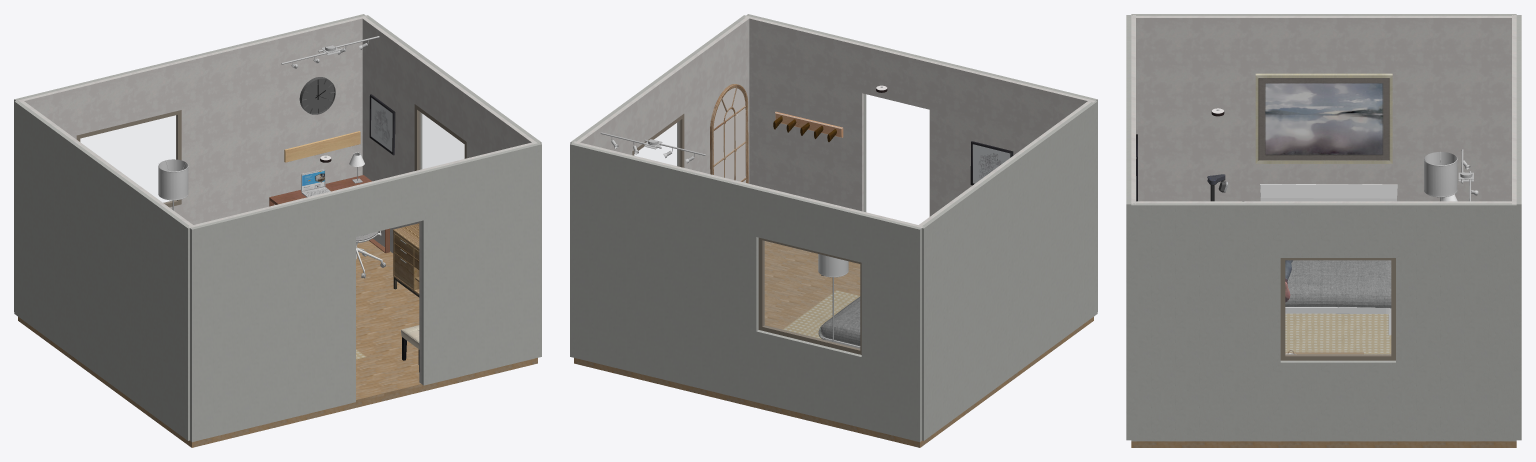
Rendered from backtrack-after.glb.
The picture shows the model from 3 angles, left to right: view 1: azimuth 30°, elevation 25°; view 2: azimuth 150°, elevation 25°; view 3: azimuth 270°, elevation 25°; orthographic projection. The views are drawn at different scales.
Parts seen in each view (by area): view 1: room__room_geometry_bedroom__v5__0_0, room__room_geometry_bedroom__v10__0_0, room__room_geometry_bedroom__v1__0_0, room__room_geometry_bedroom__v6__0_0, room__room_geometry_bedroom__v0__0_0, room__room_geometry_bedroom__v2__0_0, room__bedroom_credenza_0__0_0, room__room_geometry_bedroom__v7__0_0, room__room_geometry_bedroom__v4__0_0, room__bedroom_floor_lamp_0__0_0, room__bedroom_print_0__0_0, room__room_geometry_bedroom__v3__0_0 (+8 smaller); view 2: room__room_geometry_bedroom__v3__0_0, room__room_geometry_bedroom__v10__0_0, room__room_geometry_bedroom__v4__0_0, room__room_geometry_bedroom__v6__0_0, room__room_geometry_bedroom__v2__0_0, room__room_geometry_bedroom__v0__0_0, room__bedroom_mirror_0__0_0, room__room_geometry_bedroom__v2__0_1, room__room_geometry_bedroom__v5__0_0, room__bedroom_rug_0__0_0, room__bedroom_bed_0__0_0, room__bedroom_print_1__0_0 (+8 smaller); view 3: room__room_geometry_bedroom__v8__0_0, room__room_geometry_bedroom__v9__0_0, room__bedroom_landscape_print_0__0_0, room__room_geometry_bedroom__v7__0_0, room__bedroom_bed_0__0_0, room__bedroom_rug_0__0_0, room__room_geometry_bedroom__v0__0_0, room__room_geometry_bedroom__v3__0_0, room__room_geometry_bedroom__v5__0_0, room__room_geometry_bedroom__v7__0_1, room__bedroom_floor_lamp_0__0_0, room__room_geometry_bedroom__v6__0_0 (+3 smaller).
Boxes of the visible parts, x1,y1,x2,y2 form: room__room_geometry_bedroom__v5__0_0: [190, 142, 541, 441]; room__room_geometry_bedroom__v10__0_0: [14, 100, 191, 440]; room__room_geometry_bedroom__v1__0_0: [17, 15, 367, 224]; room__room_geometry_bedroom__v6__0_0: [361, 16, 537, 252]; room__room_geometry_bedroom__v0__0_0: [18, 240, 537, 447]; room__room_geometry_bedroom__v2__0_0: [80, 115, 176, 202]; room__bedroom_credenza_0__0_0: [393, 223, 419, 297]; room__room_geometry_bedroom__v7__0_0: [419, 111, 464, 169]; room__room_geometry_bedroom__v4__0_0: [188, 141, 536, 383]; room__bedroom_floor_lamp_0__0_0: [158, 159, 188, 210]; room__bedroom_print_0__0_0: [369, 94, 395, 155]; room__room_geometry_bedroom__v3__0_0: [14, 14, 365, 311]; room__room_geometry_bedroom__v3__0_0: [570, 142, 921, 441]; room__room_geometry_bedroom__v10__0_0: [922, 101, 1097, 440]; room__room_geometry_bedroom__v4__0_0: [744, 15, 1094, 216]; room__room_geometry_bedroom__v6__0_0: [574, 16, 749, 183]; room__room_geometry_bedroom__v2__0_0: [764, 241, 859, 348]; room__room_geometry_bedroom__v0__0_0: [574, 241, 1093, 447]; room__bedroom_mirror_0__0_0: [710, 84, 748, 183]; room__room_geometry_bedroom__v2__0_1: [758, 237, 861, 354]; room__room_geometry_bedroom__v5__0_0: [746, 14, 1097, 311]; room__bedroom_rug_0__0_0: [783, 290, 859, 338]; room__bedroom_bed_0__0_0: [818, 296, 860, 348]; room__bedroom_print_1__0_0: [970, 141, 1013, 185]; room__room_geometry_bedroom__v8__0_0: [1131, 203, 1516, 441]; room__room_geometry_bedroom__v9__0_0: [1131, 16, 1516, 201]; room__bedroom_landscape_print_0__0_0: [1255, 73, 1392, 163]; room__room_geometry_bedroom__v7__0_0: [1285, 260, 1390, 354]; room__bedroom_bed_0__0_0: [1260, 184, 1397, 335]; room__bedroom_rug_0__0_0: [1285, 313, 1391, 354]; room__room_geometry_bedroom__v0__0_0: [1131, 441, 1516, 447]; room__room_geometry_bedroom__v3__0_0: [1516, 15, 1521, 440]; room__room_geometry_bedroom__v5__0_0: [1126, 15, 1131, 440]; room__room_geometry_bedroom__v7__0_1: [1280, 258, 1395, 360]; room__bedroom_floor_lamp_0__0_0: [1424, 152, 1457, 201]; room__room_geometry_bedroom__v6__0_0: [1131, 201, 1515, 203].
Bounding box in the file's own units: 4.7 × 2.8 × 4.1.
Materials: 56 (31 with a texture image).
